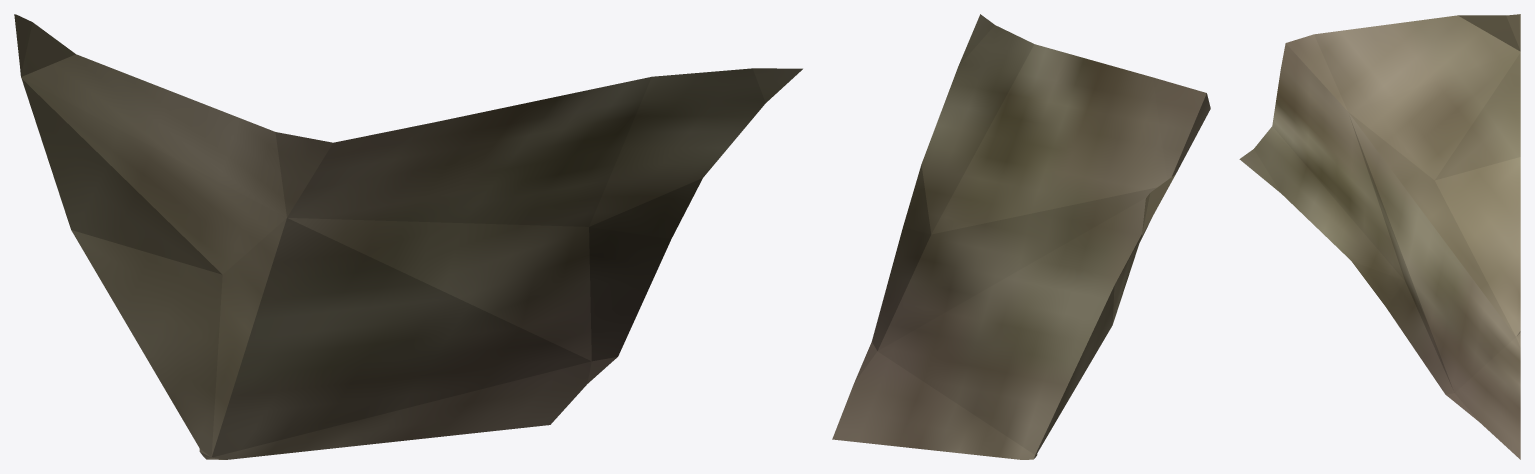
3 renders of one model, left to right at view 1: azimuth 30°, elevation 25°; view 2: azimuth 150°, elevation 25°; view 3: azimuth 270°, elevation 25°, orthographic. The views are drawn at different scales.
Bounding box in the file's own units: 0.1778 × 0.1717 × 0.1455.
Materials: 1 (1 with a texture image).
